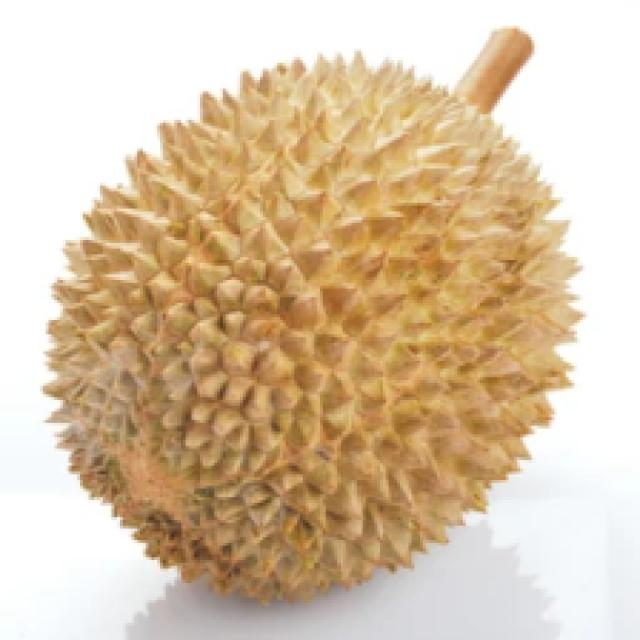d197: (26, 33, 606, 597)
